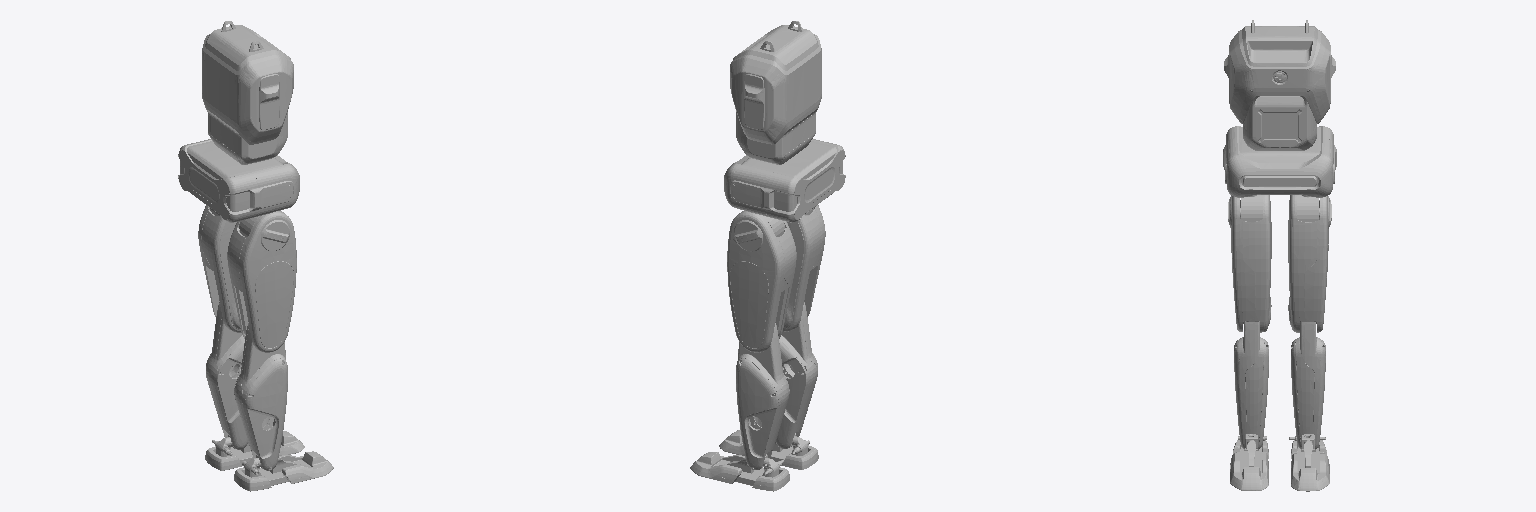
URDF robot description (ZQ_Humanoid):
<?xml version="1.0" encoding="utf-8"?>
<!-- This URDF was automatically created by SolidWorks to URDF Exporter! Originally created by
[author] ([email redacted]) 
     Commit Version: 1.6.0-1-g15f4949  Build Version: 1.6.7594.29634
     For more information, please see http://wiki.ros.org/sw_urdf_exporter -->
<robot
  name="ZQ_Humanoid">

  <link
    name="Base_link">
    <inertial>
      <origin
        xyz="-0.030427 0.00055533 0.10697"
        rpy="0 0 0" />
      <mass
        value="10.176" />
      <inertia
        ixx="0.24707543"
        ixy="0.0000714263"
        ixz="-0.017967096"
        iyy="0.21999950689"
        iyz="-0.00116322262"
        izz="0.09662582243" />
    </inertial>
    <visual>
      <origin
        xyz="0 0 0"
        rpy="0 0 0" />
      <geometry>
        <mesh
          filename="../meshes/Base_link.STL" />
      </geometry>
      <material
        name="">
        <color
          rgba="0.75294 0.75294 0.75294 1" />
      </material>
    </visual>
    <!-- <collision>
      <origin
        xyz="0 0 0"
        rpy="0 0 0" />
      <geometry>
        <mesh
          filename="../meshes/Base_link.STL" />
      </geometry>
    </collision> -->
  </link>

  <link
    name="Y1">
    <inertial>
      <origin
        xyz="0.0003501 0.00043844 -0.0020201"
        rpy="0 0 0" />
      <mass
        value="1.6592" />
      <inertia
        ixx="0.00170970094"
        ixy="0.00000339099"
        ixz="-0.00000364314"
        iyy="0.00222453198"
        iyz="-0.000018428"
        izz="0.00296249862" />
    </inertial>
    <visual>
      <origin
        xyz="0 0 0"
        rpy="0 0 0" />
      <geometry>
        <mesh
          filename="../meshes/RightLeg_Link_01.STL" />
      </geometry>
      <material
        name="">
        <color
          rgba="0.75294 0.75294 0.75294 1" />
      </material>
    </visual>
    <!-- <collision>
      <origin
        xyz="0 0 0"
        rpy="0 0 0" />
      <geometry>
        <mesh
          filename="../meshes/RightLeg_Link_01.STL" />
      </geometry>
    </collision> -->
  </link>

  <joint
    name="JOINT_Y1"
    type="revolute">
    <origin
      xyz="0 -0.075 0"
      rpy="0 0 0" />
    <parent
      link="Base_link" />
    <child
      link="Y1" />
    <axis
      xyz="1 0 0" />
    <limit
      lower="-0.523"
      upper="0.523"
      effort="140"
      velocity="25" />
  </joint>

  <link
    name="Y2">
    <inertial>
      <origin
        xyz="-0.00038352 -0.0010044 -0.12214"
        rpy="0 0 0" />
      <mass
        value="1.8008" />
      <inertia
        ixx="0.0028514924"
        ixy="-0.00000811841"
        ixz="-0.00000081779"
        iyy="0.00367928378"
        iyz="-0.00001485978"
        izz="0.00191736965" />
    </inertial>
    <visual>
      <origin
        xyz="0 0 0"
        rpy="0 0 0" />
      <geometry>
        <mesh
          filename="../meshes/RightLeg_Link_02.STL" />
      </geometry>
      <material
        name="">
        <color
          rgba="0.75294 0.75294 0.75294 1" />
      </material>
    </visual>
    <!-- <collision>
      <origin
        xyz="0 0 0"
        rpy="0 0 0" />
      <geometry>
        <mesh
          filename="../meshes/RightLeg_Link_02.STL" />
      </geometry>
    </collision> -->
  </link>

  <joint
    name="JOINT_Y2"
    type="revolute">
    <origin
      xyz="0 0 0"
      rpy="0 0 0" />
    <parent
      link="Y1" />
    <child
      link="Y2" />
    <axis
      xyz="0 0 1" />
    <limit
      lower="-0.3"
      upper="0.3"
      effort="140"
      velocity="25" />
  </joint>

  <link
    name="Y3">
    <inertial>
      <origin
        xyz="-0.0017403 -0.0012919 -0.13954"
        rpy="0 0 0" />
      <mass
        value="3.9294" />
      <inertia
        ixx="0.03202203311"
        ixy="-0.00003371707"
        ixz="0.00139789064"
        iyy="0.03559852831"
        iyz="0.00081210058"
        izz="0.01016409159" />
    </inertial>
    <visual>
      <origin
        xyz="0 0 0"
        rpy="0 0 0" />
      <geometry>
        <mesh
          filename="../meshes/RightLeg_Link_03.STL" />
      </geometry>
      <material
        name="">
        <color
          rgba="0.75294 0.75294 0.75294 1" />
      </material>
    </visual>
    <collision>
      <origin
        xyz="0 0 -0.12"
        rpy="0 0 0" />
      <geometry>
        <box size="0.05 0.05 0.25" />
      </geometry>
    </collision>
  </link>

  <joint
    name="JOINT_Y3"
    type="revolute">
    <origin
      xyz="0 0 -0.1311"
      rpy="0 0 0" />
    <parent
      link="Y2" />
    <child
      link="Y3" />
    <axis
      xyz="0 -1 0" />
    <limit
      lower="-1.204"
      upper="1.204"
      effort="140"
      velocity="25" />
  </joint>

  <link
    name="Y4">
    <inertial>
      <origin
        xyz="-0.00751 0.00047274 -0.16321"
        rpy="0 0 0" />
      <mass
        value="2.72497" />
      <inertia
        ixx="0.03032110864"
        ixy="0.00007373941"
        ixz="-0.00028430637"
        iyy="0.03234733040"
        iyz="-0.00021746443"
        izz="0.00389339565" />
    </inertial>
    <visual>
      <origin
        xyz="0 0 0"
        rpy="0 0 0" />
      <geometry>
        <mesh
          filename="../meshes/RightLeg_Link_04.STL" />
      </geometry>
      <material
        name="">
        <color
          rgba="0.75294 0.75294 0.75294 1" />
      </material>
    </visual>
    <collision>
      <origin
        xyz="0 0 -0.2"
        rpy="0 0 0" />
      <geometry>
        <box size="0.05 0.05 0.35" />
      </geometry>
    </collision>
  </link>

  <joint
    name="JOINT_Y4"
    type="revolute">
    <origin
      xyz="0 -5.9998E-05 -0.3"
      rpy="0 0 0" />
    <parent
      link="Y3" />
    <child
      link="Y4" />
    <axis
      xyz="0 -1 0" />
    <limit
      lower="-2.268"
      upper="0"
      effort="140"
      velocity="25" />
  </joint>

  <link
    name="Y5">
    <inertial>
      <origin
        xyz="2.5946E-10 5E-05 -3.4499E-09"
        rpy="0 0 0" />
      <mass
        value="0.16135" />
      <inertia
        ixx="3.0975E-05"
        ixy="0"
        ixz="0"
        iyy="3.1274E-05"
        iyz="0"
        izz="3.1681E-05" />
      <!-- <inertia
        ixx="0.001"
        ixy="0"
        ixz="0"
        iyy="0.001"
        iyz="0"
        izz="0.001" /> -->
    </inertial>
    <visual>
      <origin
        xyz="0 0 0"
        rpy="0 0 0" />
      <geometry>
        <mesh
          filename="../meshes/RightLeg_Link_05.STL" />
      </geometry>
      <material
        name="">
        <color
          rgba="0.75294 0.75294 0.75294 1" />
      </material>
    </visual>
    <!-- <collision>
      <origin
        xyz="0 0 0"
        rpy="0 0 0" />
      <geometry>
        <mesh
          filename="../meshes/RightLeg_Link_05.STL" />
      </geometry>
    </collision> -->
  </link>

  <joint
    name="JOINT_Y5"
    type="revolute">
    <origin
      xyz="0 -7.0122E-05 -0.37"
      rpy="0 0 0" />
    <parent
      link="Y4" />
    <child
      link="Y5" />
    <axis
      xyz="0 -1 0" />
    <limit
      lower="-0.6"
      upper="1.0"
      effort="24"
      velocity="31" />
  </joint>

  <link
    name="Y6_foot">
    <inertial>
      <origin
        xyz="0.030366 -0.0019504 -0.03549"
        rpy="0 0 0" />
      <mass
        value="1.1926" />
      <inertia
        ixx="0.00105336111"
        ixy="0.00016297948"
        ixz="0.00045060777"
        iyy="0.00606728572"
        iyz="-0.00002665285"
        izz="0.00646075577" />
    </inertial>
    <visual>
      <origin
        xyz="0 0 0"
        rpy="0 0 0" />
      <geometry>
        <mesh
          filename="../meshes/RightLeg_Link_06.STL" />
      </geometry>
      <material
        name="">
        <color
          rgba="0.75294 0.75294 0.75294 1" />
      </material>
    </visual>
    <collision>
      <origin
        xyz="0.05 0 -0.04"
        rpy="0 0 0" />
      <geometry>
        <box size="0.24 0.08 0.03" />
      </geometry>
    </collision>
  </link>

  <joint
    name="JOINT_Y6"
    type="revolute">
    <origin
      xyz="0 0 0"
      rpy="0 0 0" />
    <parent
      link="Y5" />
    <child
      link="Y6_foot" />
    <axis
      xyz="1 0 0" />
    <limit
      lower="-0.6"
      upper="0.6"
      effort="24"
      velocity="31" />
  </joint>

  <link
    name="Z1">
    <inertial>
      <origin
        xyz="0.0003501 0.00043844 -0.0020201"
        rpy="0 0 0" />
      <mass
        value="1.6592" />
      <inertia
        ixx="0.00170970094"
        ixy="0.00000339099"
        ixz="-0.00000364314"
        iyy="0.00222453198"
        iyz="-0.000018428"
        izz="0.00296249862" />
    </inertial>
    <visual>
      <origin
        xyz="0 0 0"
        rpy="0 0 0" />
      <geometry>
        <mesh
          filename="../meshes/LeftLeg_Link_01.STL" />
      </geometry>
      <material
        name="">
        <color
          rgba="0.75294 0.75294 0.75294 1" />
      </material>
    </visual>
    <!-- <collision>
      <origin
        xyz="0 0 0"
        rpy="0 0 0" />
      <geometry>
        <mesh
          filename="../meshes/LeftLeg_Link_01.STL" />
      </geometry>
    </collision> -->
  </link>

  <joint
    name="JOINT_Z1"
    type="revolute">
    <origin
      xyz="0 0.075 0"
      rpy="0 0 0" />
    <parent
      link="Base_link" />
    <child
      link="Z1" />
    <axis
      xyz="1 0 0" />
    <limit
      lower="-0.523"
      upper="0.523"
      effort="140"
      velocity="25" />
  </joint>

  <link
    name="Z2">
    <inertial>
      <origin
        xyz="0.00038352 0.0010044 -0.12214"
        rpy="0 0 0" />
      <mass
        value="1.8008" />
      <inertia
        ixx="0.0028514924"
        ixy="-0.00000811841"
        ixz="0.00000081779"
        iyy="0.00367928378"
        iyz="0.00001485978"
        izz="0.00191736965" />
    </inertial>
    <visual>
      <origin
        xyz="0 0 0"
        rpy="0 0 0" />
      <geometry>
        <mesh
          filename="../meshes/LeftLeg_Link_02.STL" />
      </geometry>
      <material
        name="">
        <color
          rgba="0.75294 0.75294 0.75294 1" />
      </material>
    </visual>
    <!-- <collision>
      <origin
        xyz="0 0 0"
        rpy="0 0 0" />
      <geometry>
        <mesh
          filename="../meshes/LeftLeg_Link_02.STL" />
      </geometry>
    </collision> -->
  </link>

  <joint
    name="JOINT_Z2"
    type="revolute">
    <origin
      xyz="0 0 0"
      rpy="0 0 0" />
    <parent
      link="Z1" />
    <child
      link="Z2" />
    <axis
      xyz="0 0 1" />
    <limit
      lower="-0.3"
      upper="0.3"
      effort="140"
      velocity="25" />
  </joint>

  <link
    name="Z3">
    <inertial>
      <origin
        xyz="-0.0017654 0.0012877 -0.13954"
        rpy="0 0 0" />
      <mass
        value="3.9299" />
      <inertia
        ixx="0.03203144433"
        ixy="0.00003937845"
        ixz="0.00141442438"
        iyy="0.03561061150"
        iyz="-0.00080953754"
        izz="0.01016719156" />
    </inertial>
    <visual>
      <origin
        xyz="0 0 0"
        rpy="0 0 0" />
      <geometry>
        <mesh
          filename="../meshes/LeftLeg_Link_03.STL" />
      </geometry>
      <material
        name="">
        <color
          rgba="0.75294 0.75294 0.75294 1" />
      </material>
    </visual>
    <collision>
      <origin
        xyz="0 0 -0.12"
        rpy="0 0 0" />
      <geometry>
        <box size="0.05 0.05 0.25" />
      </geometry>
    </collision>
  </link>

  <joint
    name="JOINT_Z3"
    type="revolute">
    <origin
      xyz="0 0 -0.1311"
      rpy="0 0 0" />
    <parent
      link="Z2" />
    <child
      link="Z3" />
    <axis
      xyz="0 -1 0" />
    <limit
      lower="-1.204"
      upper="1.204"
      effort="140"
      velocity="25" />
  </joint>

  <link
    name="Z4">
    <inertial>
      <origin
        xyz="-0.00751 -0.00041 -0.16322"
        rpy="0 0 0" />
      <mass
        value="2.72510" />
      <inertia
        ixx="0.03032295461"
        ixy="-0.00007371616"
        ixz="-0.00028406531"
        iyy="0.03234908064"
        iyz="0.00021740427"
        izz="0.00389340359" />
    </inertial>
    <visual>
      <origin
        xyz="0 0 0"
        rpy="0 0 0" />
      <geometry>
        <mesh
          filename="../meshes/LeftLeg_Link_04.STL" />
      </geometry>
      <material
        name="">
        <color
          rgba="0.75294 0.75294 0.75294 1" />
      </material>
    </visual>
    <collision>
      <origin
        xyz="0 0 -0.2"
        rpy="0 0 0" />
      <geometry>
        <box size="0.05 0.05 0.35" />
      </geometry>
    </collision>
  </link>

  <joint
    name="JOINT_Z4"
    type="revolute">
    <origin
      xyz="0 5.9998E-05 -0.3"
      rpy="0 0 0" />
    <parent
      link="Z3" />
    <child
      link="Z4" />
    <axis
      xyz="0 -1 0" />
    <limit
      lower="-2.268"
      upper="0"
      effort="140"
      velocity="25" />
  </joint>

  <link
    name="Z5">
    <inertial>
      <origin
        xyz="-2.5946E-10 -5E-05 -3.4499E-09"
        rpy="0 0 0" />
      <mass
        value="0.16135" />
      <inertia
        ixx="3.0975E-05"
        ixy="0"
        ixz="0"
        iyy="3.1274E-05"
        iyz="0"
        izz="3.1681E-05" />
      <!-- <inertia
        ixx="0.001"
        ixy="0"
        ixz="0"
        iyy="0.001"
        iyz="0"
        izz="0.001" /> -->
    </inertial>
    <visual>
      <origin
        xyz="0 0 0"
        rpy="0 0 0" />
      <geometry>
        <mesh
          filename="../meshes/LeftLeg_Link_05.STL" />
      </geometry>
      <material
        name="">
        <color
          rgba="0.75294 0.75294 0.75294 1" />
      </material>
    </visual>
    <!-- <collision>
      <origin
        xyz="0 0 0"
        rpy="0 0 0" />
      <geometry>
        <mesh
          filename="../meshes/LeftLeg_Link_05.STL" />
      </geometry>
    </collision> -->
  </link>

  <joint
    name="JOINT_Z5"
    type="revolute">
    <origin
      xyz="0 7.0122E-05 -0.37"
      rpy="0 0 0" />
    <parent
      link="Z4" />
    <child
      link="Z5" />
    <axis
      xyz="0 -1 0" />
    <limit
      lower="-0.6"
      upper="1.0"
      effort="24"
      velocity="31" />
  </joint>

  <link
    name="Z6_foot">
    <inertial>
      <origin
        xyz="0.030366 0.0019502 -0.03549"
        rpy="0 0 0" />
      <mass
        value="1.1926" />
      <inertia
        ixx="0.00105334189"
        ixy="-0.00016295982"
        ixz="0.000450560"
        iyy="0.00606712875"
        iyz="0.00002664992"
        izz="0.00646061141" />
    </inertial>
    <visual>
      <origin
        xyz="0 0 0"
        rpy="0 0 0" />
      <geometry>
        <mesh
          filename="../meshes/LeftLeg_Link_06.STL" />
      </geometry>
      <material
        name="">
        <color
          rgba="0.75294 0.75294 0.75294 1" />
      </material>
    </visual>
    <collision>
      <origin
        xyz="0.05 0 -0.04"
        rpy="0 0 0" />
      <geometry>
        <box size="0.24 0.08 0.03" />
      </geometry>
    </collision>
  </link>

  <joint
    name="JOINT_Z6"
    type="revolute">
    <origin
      xyz="0 0 0"
      rpy="0 0 0" />
    <parent
      link="Z5" />
    <child
      link="Z6_foot" />
    <axis
      xyz="1 0 0" />
    <limit
      lower="-0.6"
      upper="0.6"
      effort="24"
      velocity="31" />
  </joint>
</robot>

--- What the picture shows (computed from the rendered views, not written in the file) ---
The picture shows the robot from 3 angles, left to right: view 1: azimuth 30°, elevation 25°; view 2: azimuth 150°, elevation 25°; view 3: azimuth 270°, elevation 25°; orthographic projection.
Robot: ZQ_Humanoid — 13 links, 12 joints (12 revolute); root link Base_link; default pose: every joint at zero.
Links seen in each view (by area): view 1: Base_link, Y3, Y4, Z4, Z3, Y6_foot, Z6_foot; view 2: Base_link, Z3, Z4, Y4, Y3, Z6_foot, Y6_foot; view 3: Base_link, Z3, Y3, Y4, Z4, Z6_foot, Y6_foot, Z2, Y2.
Link boxes in pixels (bbox=[...]): Base_link: bbox=[178, 21, 299, 222]; Y3: bbox=[227, 211, 296, 352]; Y4: bbox=[234, 323, 287, 470]; Z4: bbox=[206, 302, 247, 449]; Z3: bbox=[198, 205, 241, 332]; Y6_foot: bbox=[234, 451, 333, 491]; Z6_foot: bbox=[205, 431, 304, 470]; Base_link: bbox=[724, 21, 845, 222]; Z3: bbox=[727, 211, 796, 352]; Z4: bbox=[736, 323, 789, 469]; Y4: bbox=[776, 302, 817, 448]; Y3: bbox=[783, 205, 825, 331]; Z6_foot: bbox=[690, 452, 789, 491]; Y6_foot: bbox=[719, 430, 818, 469]; Base_link: bbox=[1223, 20, 1336, 197]; Z3: bbox=[1288, 195, 1331, 332]; Y3: bbox=[1228, 195, 1271, 332]; Y4: bbox=[1234, 321, 1268, 449]; Z4: bbox=[1291, 321, 1325, 449]; Z6_foot: bbox=[1289, 436, 1329, 491]; Y6_foot: bbox=[1230, 436, 1268, 490]; Z2: bbox=[1297, 195, 1318, 221]; Y2: bbox=[1241, 195, 1262, 221].
Bounding box of the posed robot: 0.3352 × 0.3013 × 1.27 m (x, y, z).
13 mesh visuals loaded from 13 distinct referenced files (13 binary STL).
